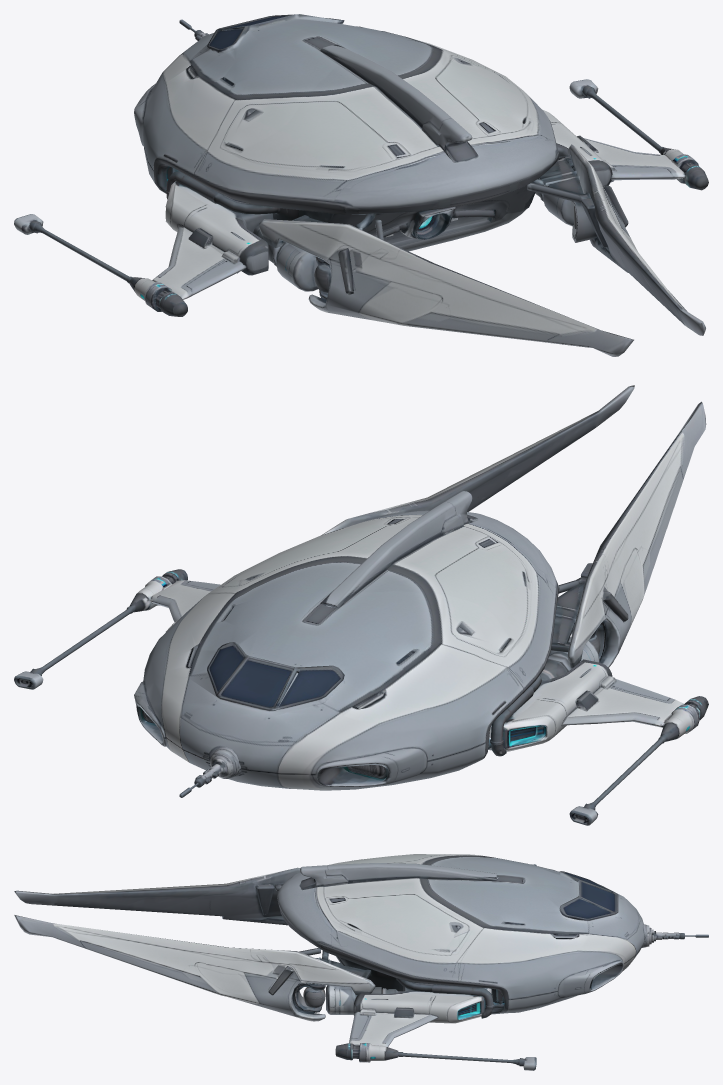
Rendered from bigboy.glb.
3 views of the same model, one above another, from view 1: azimuth 30°, elevation 25°; view 2: azimuth 150°, elevation 25°; view 3: azimuth 270°, elevation 25° (orthographic). The views are drawn at different scales.
Visible parts, largest first — view 1: tripo_node_9c4007b2-5ed5-4024-9133-33647159ba58; view 2: tripo_node_9c4007b2-5ed5-4024-9133-33647159ba58; view 3: tripo_node_9c4007b2-5ed5-4024-9133-33647159ba58.
Boxes of the visible parts, x1,y1,x2,y2 form: tripo_node_9c4007b2-5ed5-4024-9133-33647159ba58: (14, 14, 708, 356); tripo_node_9c4007b2-5ed5-4024-9133-33647159ba58: (14, 385, 708, 825); tripo_node_9c4007b2-5ed5-4024-9133-33647159ba58: (14, 854, 708, 1070).
Size of the model in its own units: 0.6851 by 0.2026 by 0.9995.
Materials: 1 (1 with a texture image).
